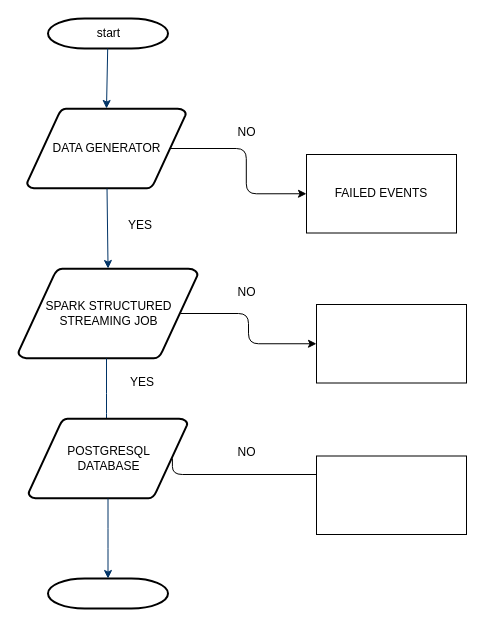
Image size: 484x626. Some labels were removed from this diagram. Here are the shapes that lost their labels. From the top down, the centre of each, then its label:
pixel 391 343: CHECKPOINT DIRECTORY
pixel 391 494: BAD RECORDS TABLE
pixel 107 593: end
